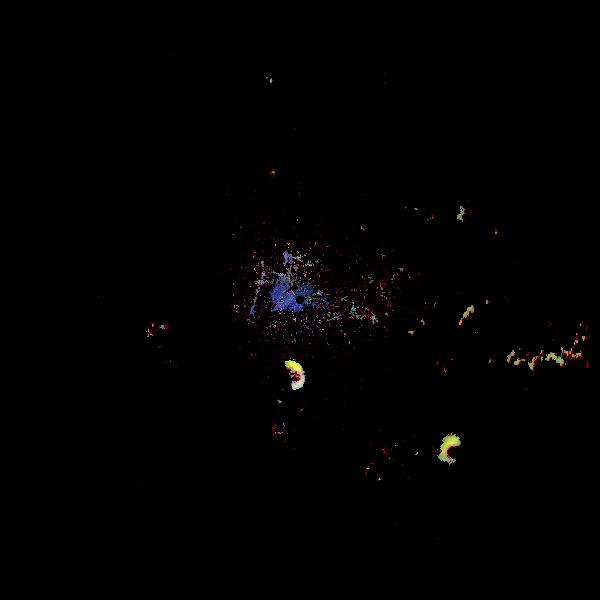roost: (270, 358, 306, 394), (436, 434, 469, 467)
